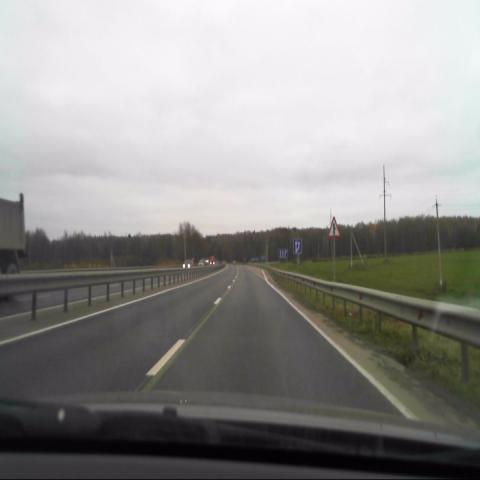2_3_2: (329, 216, 340, 237)
5_15_1: (278, 248, 288, 259)
5_15_3: (293, 238, 302, 254)
